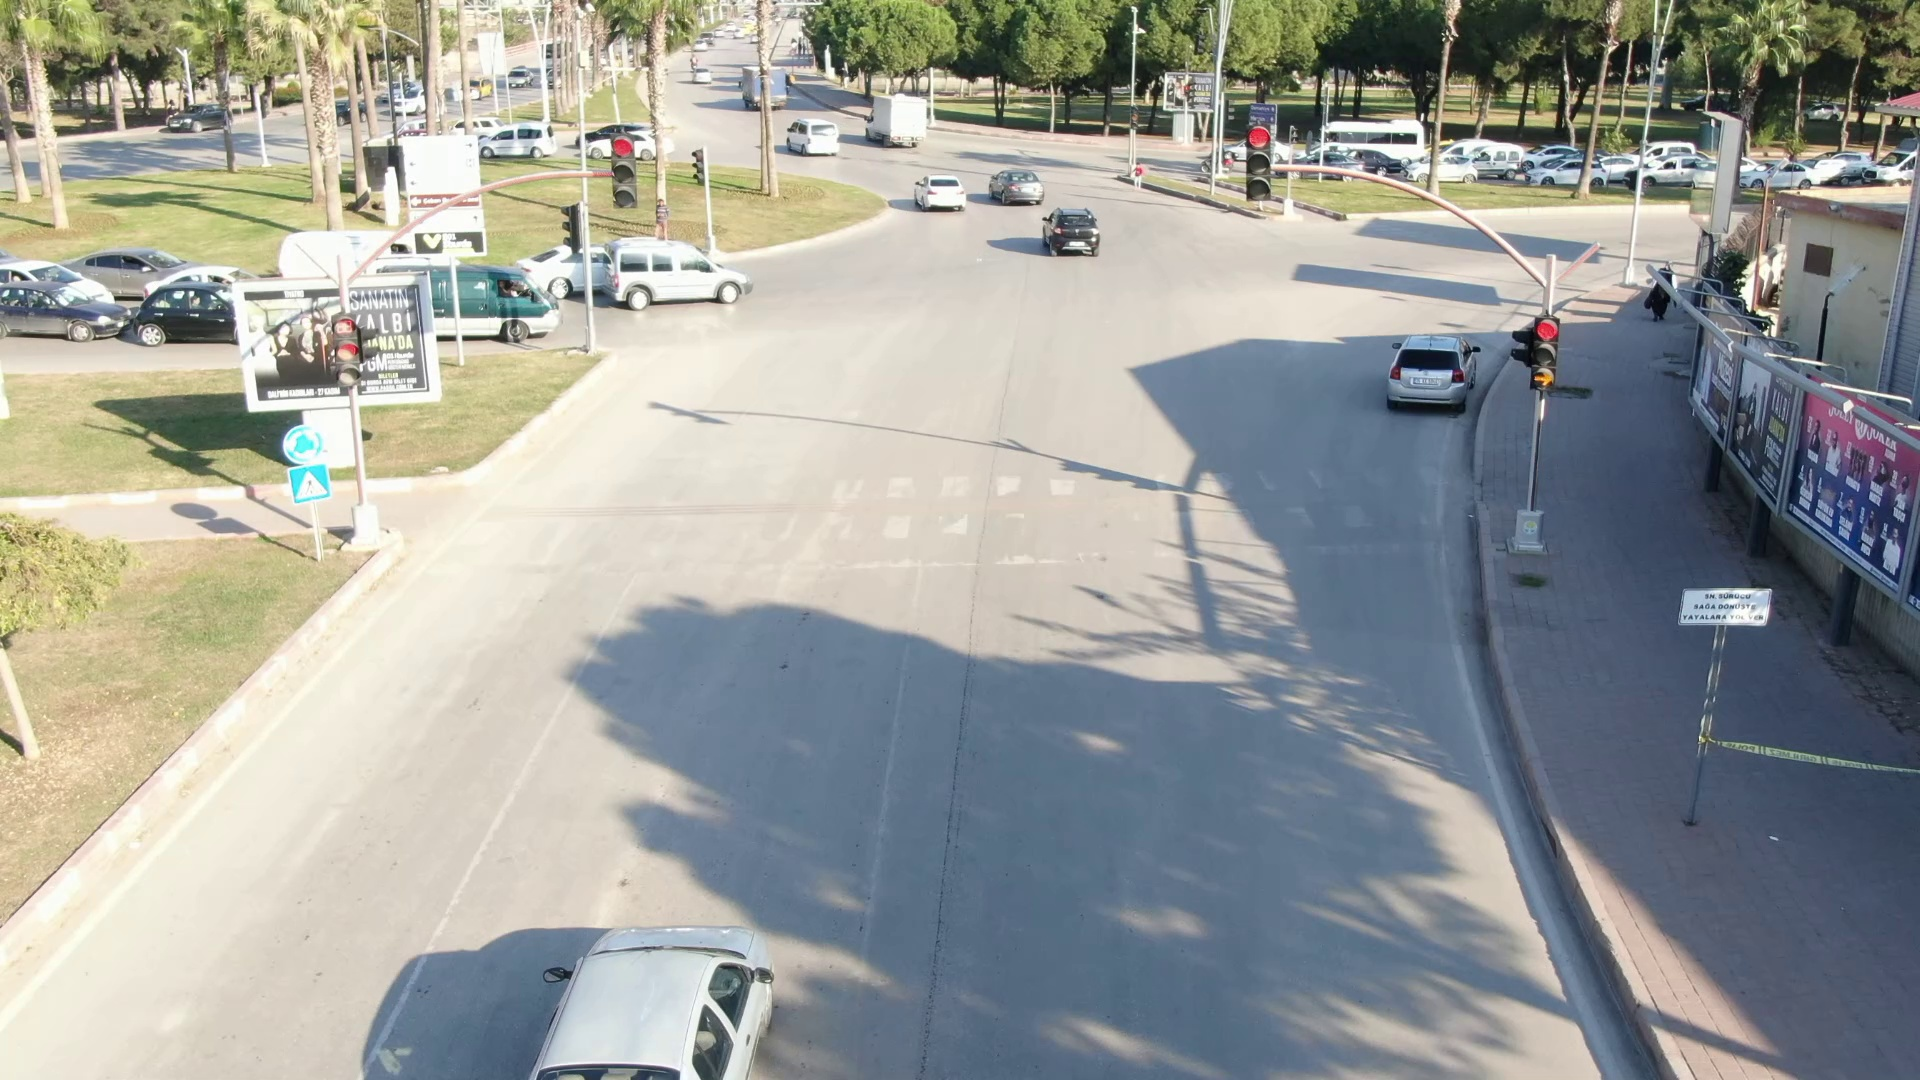car: (471, 847, 799, 1080), (585, 223, 775, 320), (1357, 310, 1484, 423), (1027, 200, 1124, 268), (851, 86, 942, 152), (897, 164, 973, 223), (978, 156, 1050, 208), (777, 116, 848, 160)
